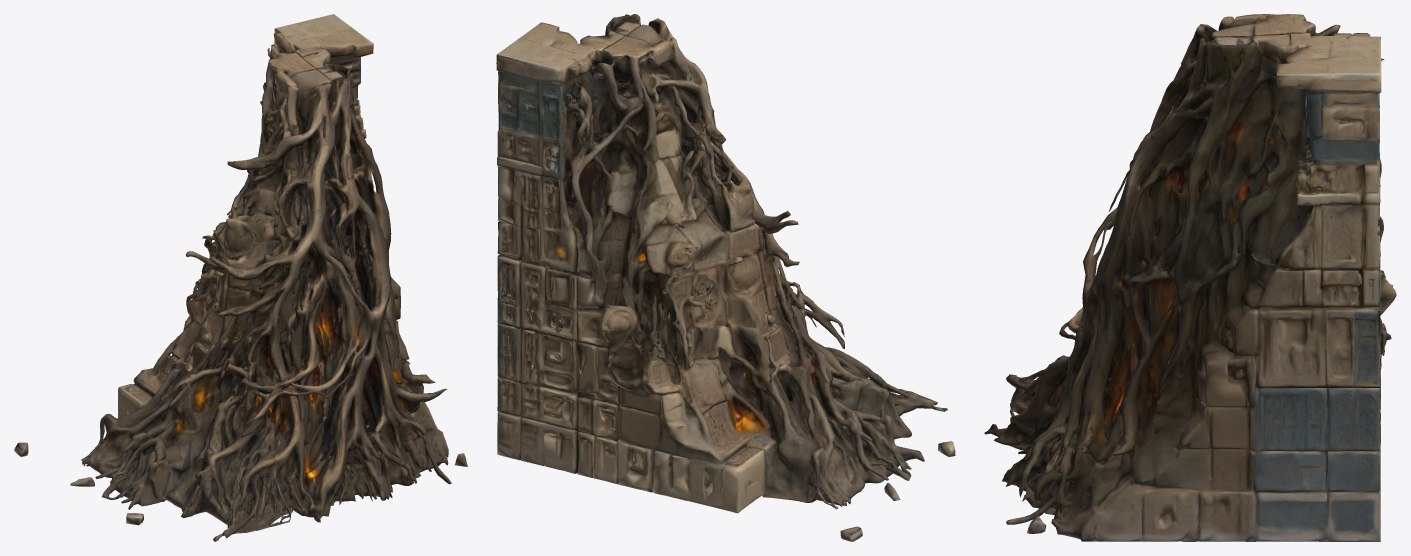
The model's file is Meshy_AI_Highly_detailed_ancie_1017091253_texture.fbx.
The picture shows the model from 3 angles, left to right: view 1: azimuth 30°, elevation 25°; view 2: azimuth 150°, elevation 25°; view 3: azimuth 270°, elevation 25°; orthographic projection. The views are drawn at different scales.
Visible parts, largest first — view 1: Mesh_0; view 2: Mesh_0; view 3: Mesh_0.
Boxes of the visible parts, x1=… form: Mesh_0: x1=14, y1=14, x2=467, y2=541; Mesh_0: x1=496, y1=14, x2=955, y2=541; Mesh_0: x1=984, y1=14, x2=1396, y2=541.
Size of the model in its own units: 187 by 200 by 159.
1 material, 1 textured.
